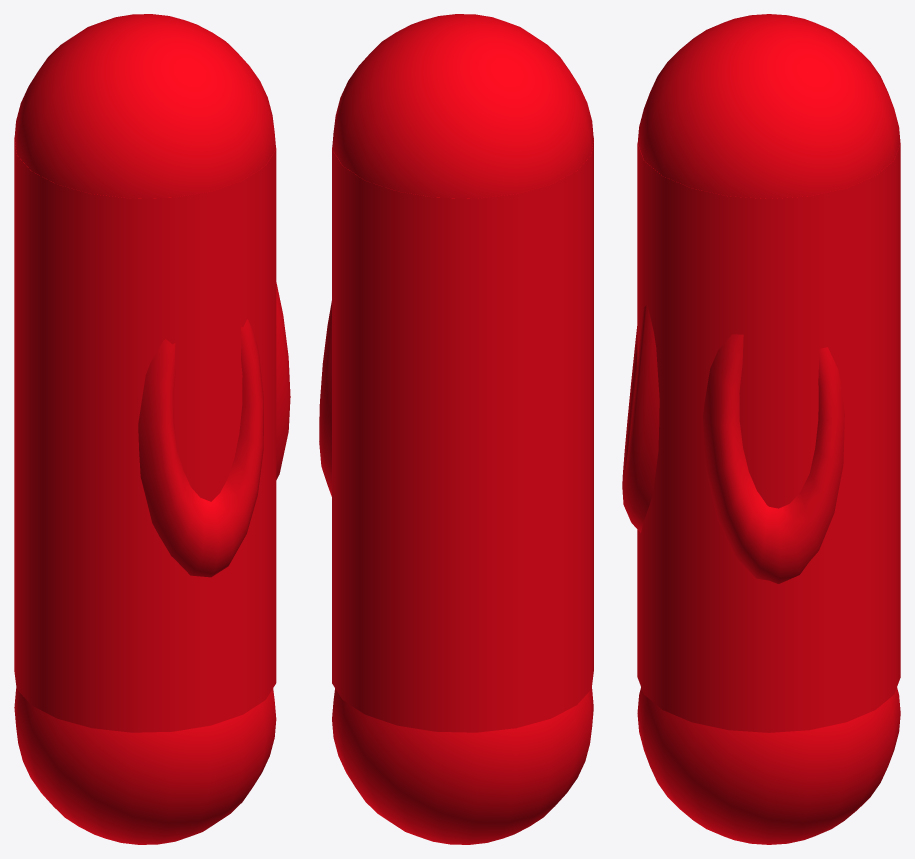
Rendered from dlefthand.obj.
3 renders of one model, left to right at view 1: azimuth 30°, elevation 25°; view 2: azimuth 150°, elevation 25°; view 3: azimuth 270°, elevation 25°, orthographic.
Visible parts, largest first — view 1: pSphere3; view 2: pSphere3; view 3: pSphere3.
Part boxes in pixels (<box>): pSphere3: <box>14,14,290,844</box>; pSphere3: <box>319,14,593,844</box>; pSphere3: <box>622,14,900,844</box>.
Size of the model in its own units: 2.11 by 6.76 by 2.12.
